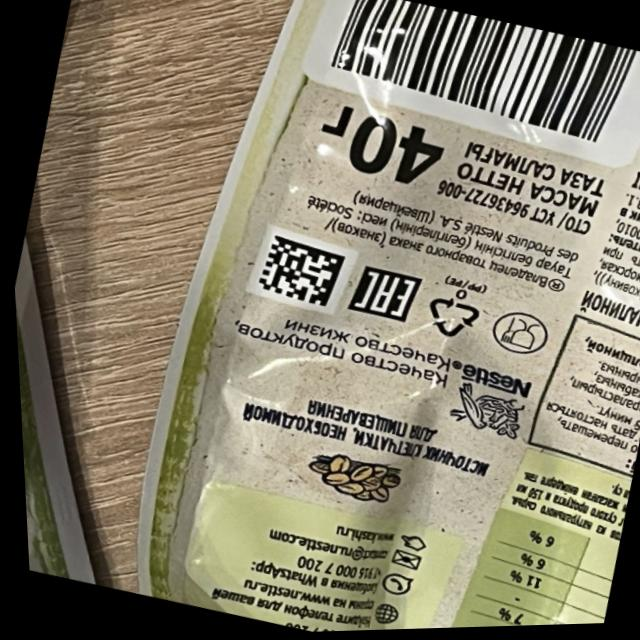datamatrix: (250, 232, 347, 313)
